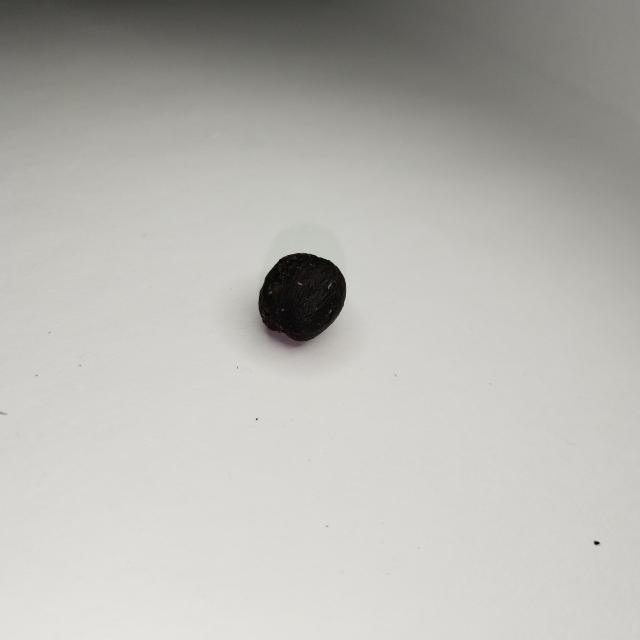Danado: (259, 252, 345, 342)
